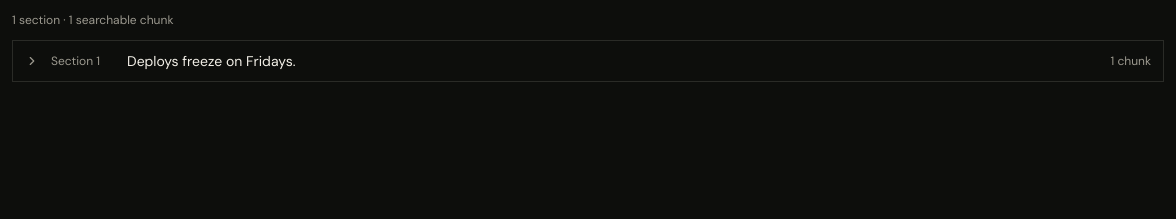
ItemSections › summarises sections and chunks, and expands a section to its chunks
Expected: the text "1 section · 1 searchable chunk" is shown, [12,12,173,28]
Expected: the text "From the release policy." is not shown
Click the button "Section 1 Deploys freeze on Fridays. 1 chunk".
click(74, 61)  # box [13,41,1163,81]
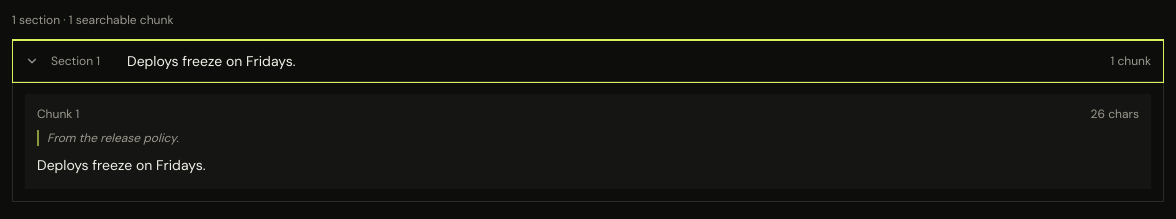
Result: the text "From the release policy." is shown at [37,130,1139,146]
